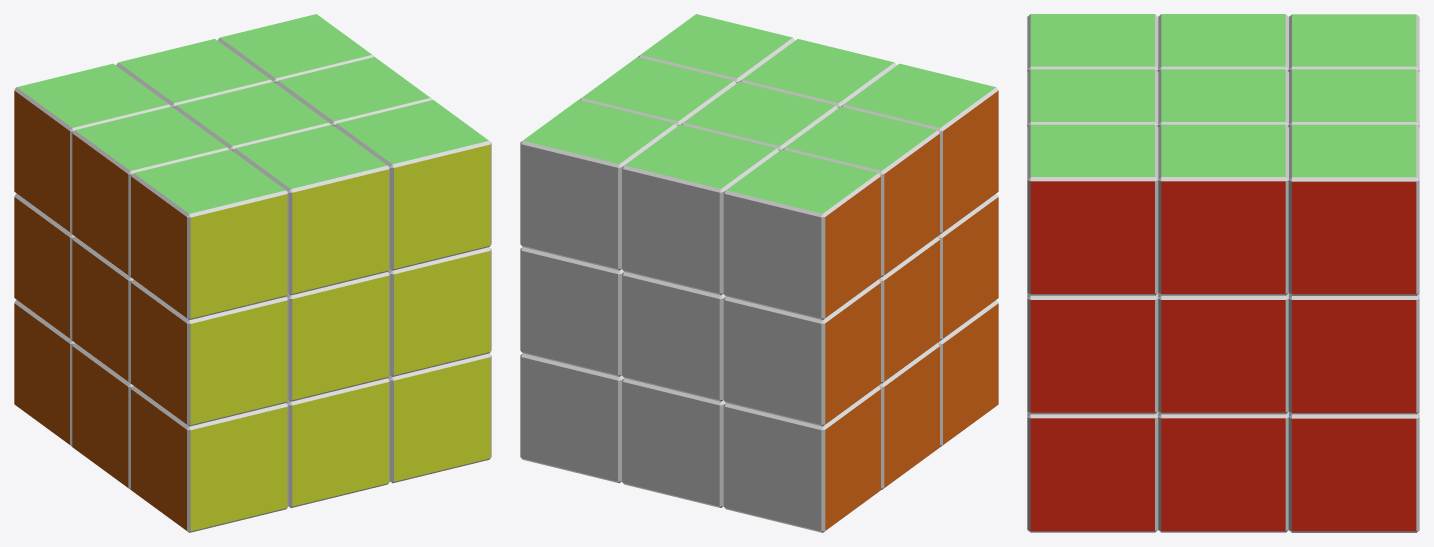
File: rubix.glb
The picture shows the model from 3 angles, left to right: view 1: azimuth 30°, elevation 25°; view 2: azimuth 150°, elevation 25°; view 3: azimuth 270°, elevation 25°; orthographic projection. The views are drawn at different scales.
Visible parts, largest first — view 1: a7, c7, b7, a8, a9, a4, a1, c8, c9, b8, b9, b4 (+7 smaller); view 2: a1, b1, c1, a3, a2, a7, a4, c2, c3, b2, b3, b4 (+7 smaller); view 3: a9, a3, a6, b9, b6, c9, b3, c3, c6, a8, a7, a2 (+3 smaller).
Part boxes in pixels (x1,y1,x2,y2): a7: [131, 149, 288, 320]; c7: [131, 386, 288, 532]; b7: [131, 279, 288, 426]; a8: [233, 124, 389, 295]; a9: [334, 100, 491, 270]; a4: [72, 106, 229, 277]; a1: [14, 63, 171, 233]; c8: [286, 378, 389, 507]; c9: [388, 353, 491, 483]; b8: [286, 272, 389, 401]; b9: [388, 247, 491, 376]; b4: [72, 237, 133, 383]; a1: [723, 149, 880, 320]; b1: [723, 279, 880, 426]; c1: [723, 386, 880, 532]; a3: [520, 100, 677, 270]; a2: [622, 124, 778, 295]; a7: [841, 63, 998, 234]; a4: [783, 106, 939, 277]; c2: [622, 378, 725, 507]; c3: [520, 353, 623, 483]; b2: [622, 272, 725, 401]; b3: [520, 247, 623, 376]; b4: [878, 236, 939, 383]; a9: [1027, 124, 1158, 295]; a3: [1288, 124, 1419, 295]; a6: [1158, 124, 1288, 295]; b9: [1027, 293, 1158, 414]; b6: [1158, 293, 1288, 414]; c9: [1027, 411, 1158, 532]; b3: [1288, 293, 1419, 414]; c3: [1288, 412, 1419, 532]; c6: [1158, 411, 1288, 532]; a8: [1027, 69, 1158, 126]; a7: [1027, 14, 1158, 71]; a2: [1288, 69, 1419, 127].
Size of the model in its own units: 6.01 by 6 by 6.
